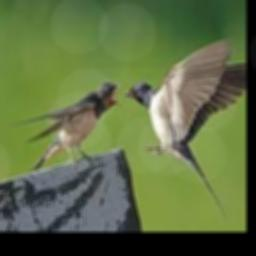Swallow: (125, 37, 246, 220), (13, 81, 121, 172)
